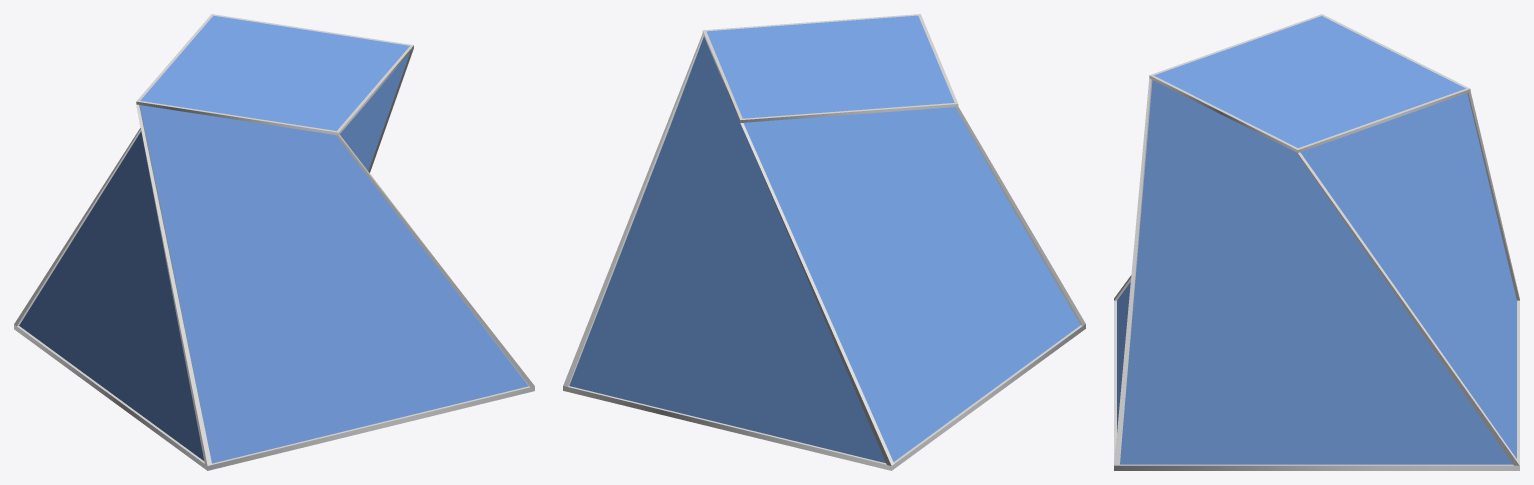
File: Top1.fbx
3 views of the same model, side by side, from view 1: azimuth 30°, elevation 25°; view 2: azimuth 150°, elevation 25°; view 3: azimuth 270°, elevation 25° (orthographic). The views are drawn at different scales.
Parts seen in each view (by area): view 1: Glass005, sddd, box004; view 2: Glass005, sddd, box004; view 3: Glass005, sddd, box004.
Part boxes in pixels (x1,y1,x2,y2): Glass005: (19, 53, 528, 463); sddd: (140, 15, 409, 130); box004: (14, 14, 534, 470); Glass005: (569, 36, 1080, 463); sddd: (706, 15, 954, 118); box004: (563, 14, 1085, 470); Glass005: (1117, 80, 1516, 464); sddd: (1154, 16, 1465, 147); box004: (1114, 14, 1519, 470).
Size of the model in its own units: 416 by 352 by 426.
